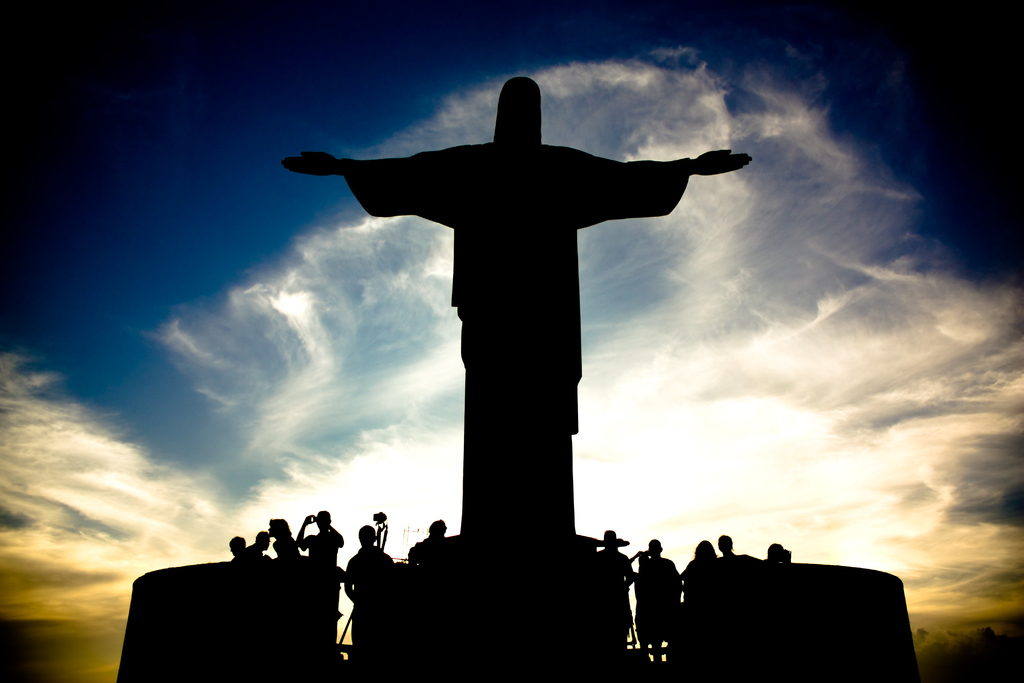Human_hand: (646, 133, 752, 190), (280, 151, 344, 180), (306, 514, 318, 524)
